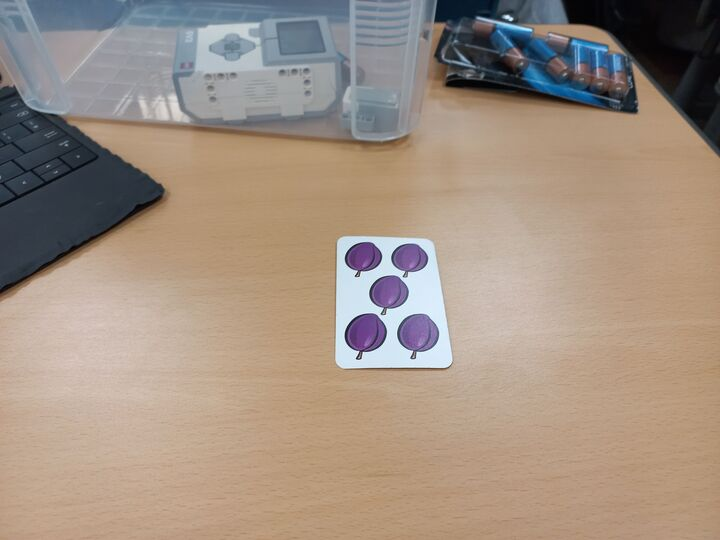plum5: (333, 235, 455, 371)
